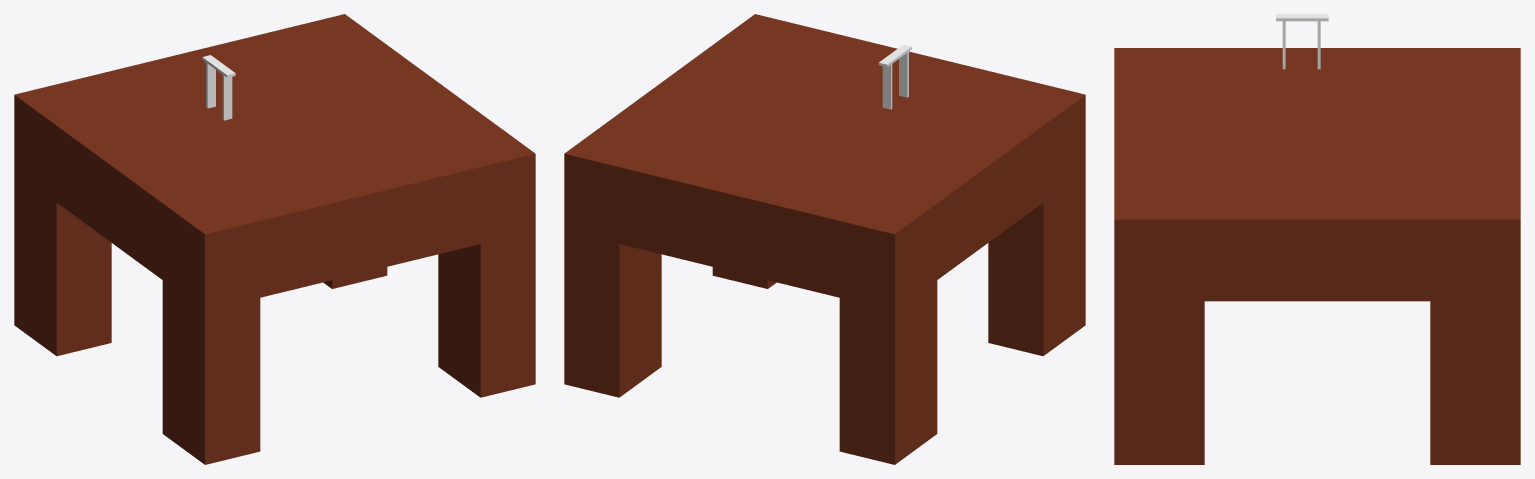
The model's file is keva_pi_structure.dae.
The picture shows the model from 3 angles, left to right: view 1: azimuth 30°, elevation 25°; view 2: azimuth 150°, elevation 25°; view 3: azimuth 270°, elevation 25°; orthographic projection. The views are drawn at different scales.
Visible parts, largest first — view 1: base (×5); view 2: base (×5); view 3: base (×4).
Boxes of the visible parts, x1=… form: base (×5): x1=14, y1=14, x2=535, y2=464; base (×5): x1=564, y1=14, x2=1085, y2=464; base (×4): x1=1114, y1=14, x2=1520, y2=464.
Size of the model in its own units: 0.9 by 0.9 by 0.8075.
